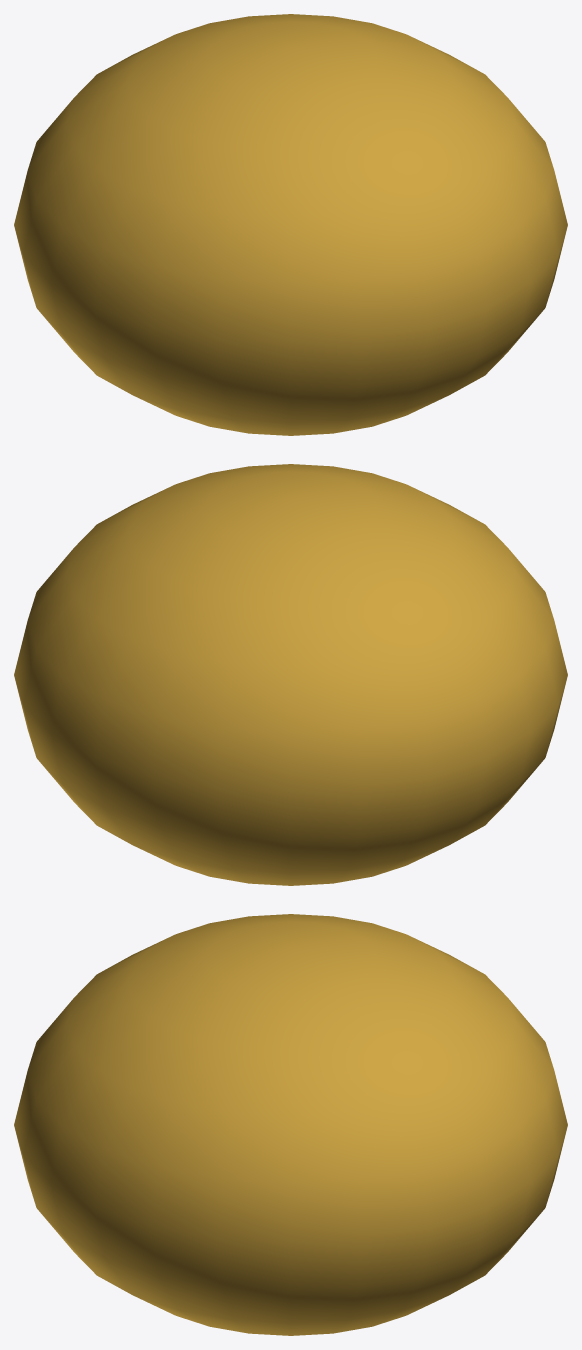
Rendered from i_pouf_3.glb.
3 views of the same model, one above another, from view 1: azimuth 30°, elevation 25°; view 2: azimuth 150°, elevation 25°; view 3: azimuth 270°, elevation 25° (orthographic).
Parts seen in each view (by area): view 1: o; view 2: o; view 3: o.
Boxes of the visible parts, x1=… form: o: x1=14, y1=14, x2=567, y2=435; o: x1=14, y1=464, x2=567, y2=885; o: x1=14, y1=914, x2=567, y2=1335.
Size of the model in its own units: 0.5 by 0.35 by 0.5.
